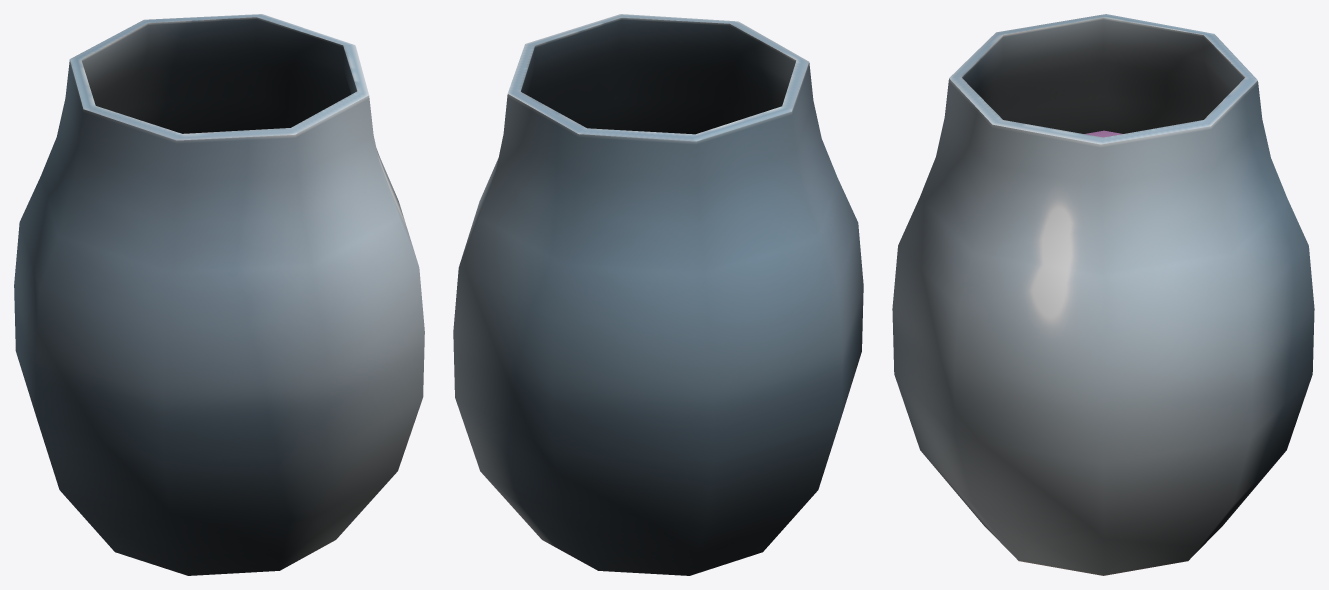
Rendered from Bachbluetennektar_Cocktail.glb.
3 renders of one model, left to right at view 1: azimuth 30°, elevation 25°; view 2: azimuth 150°, elevation 25°; view 3: azimuth 270°, elevation 25°, orthographic.
Parts seen in each view (by area): view 1: CocktailGlass.012; view 2: CocktailGlass.012; view 3: CocktailGlass.012.
Part boxes in pixels (x1,y1,x2,y2): CocktailGlass.012: (14,14,424,575); CocktailGlass.012: (453,14,863,575); CocktailGlass.012: (892,14,1314,575).
Size of the model in its own units: 0.0606 by 0.071 by 0.0606.
2 materials, 2 textured.
